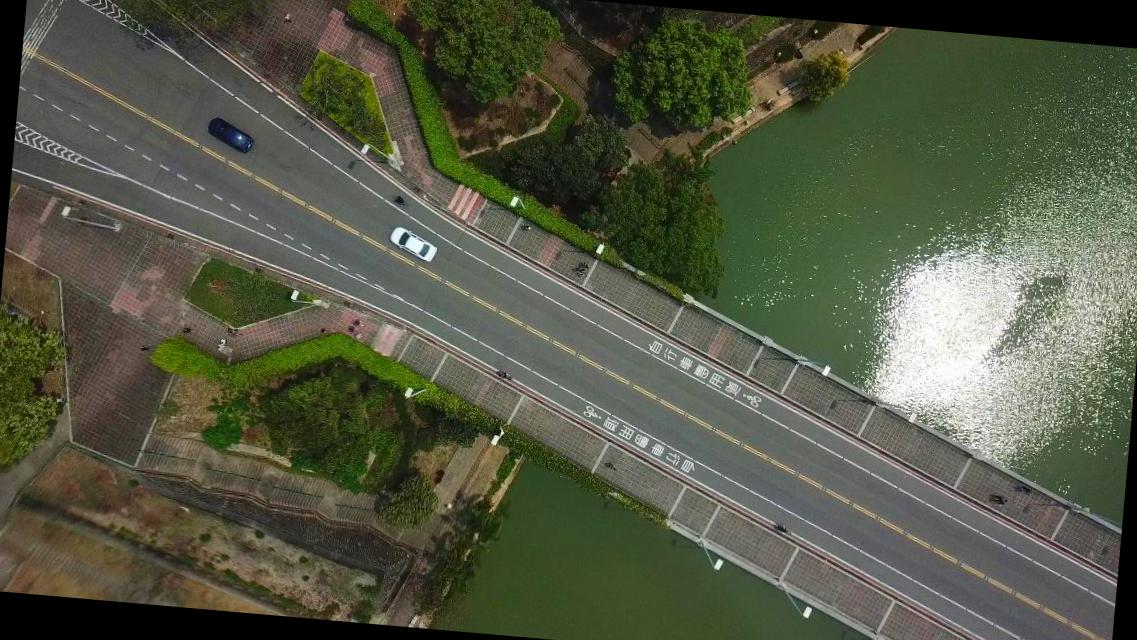vehicle: (204, 115, 256, 155), (386, 225, 438, 264)
